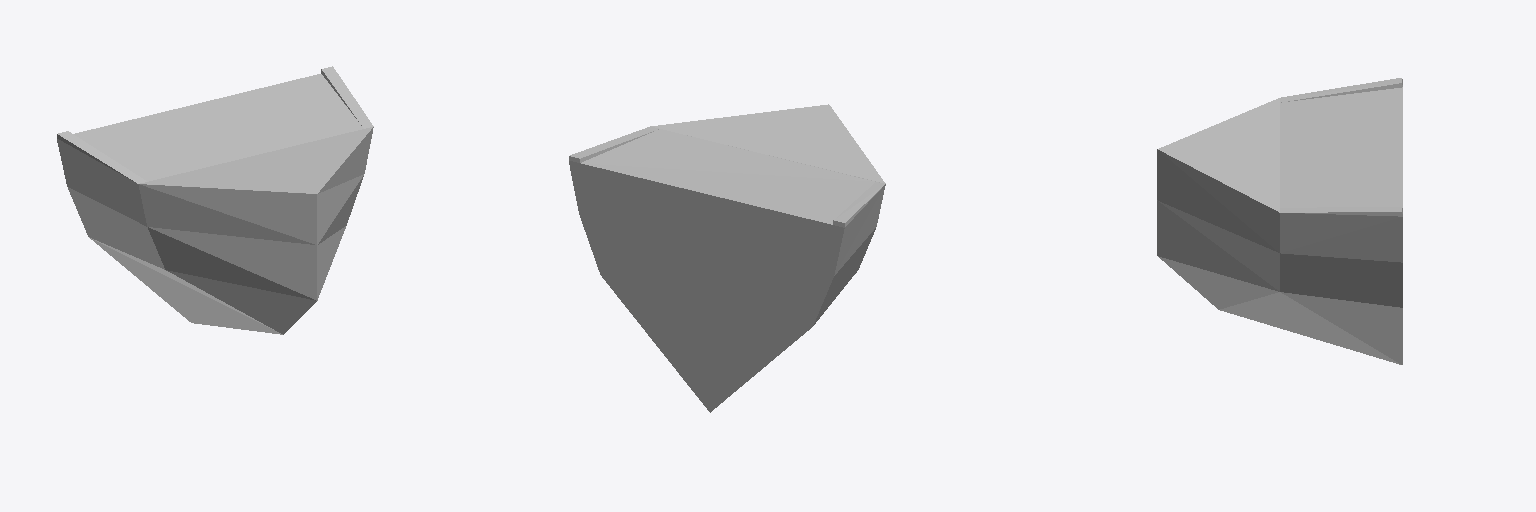
The model's file is coque_avant_bas.obj.
The picture shows the model from 3 angles: view 1: azimuth 30°, elevation 25°; view 2: azimuth 150°, elevation 25°; view 3: azimuth 270°, elevation 25°; orthographic projection.
Parts seen in each view (by area): view 1: mesh_Cube.001; view 2: mesh_Cube.001; view 3: mesh_Cube.001.
Part boxes in pixels (left/top/right/bottom): mesh_Cube.001: left=57, top=66, right=373, bottom=334; mesh_Cube.001: left=569, top=104, right=885, bottom=412; mesh_Cube.001: left=1157, top=78, right=1402, bottom=364.
Bounding box in the file's own units: 1.3 × 0.9999 × 1.